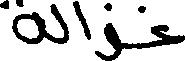X: (0, 0, 45, 48), (98, 0, 119, 60), (151, 20, 184, 51), (53, 0, 67, 48), (75, 0, 90, 44)
